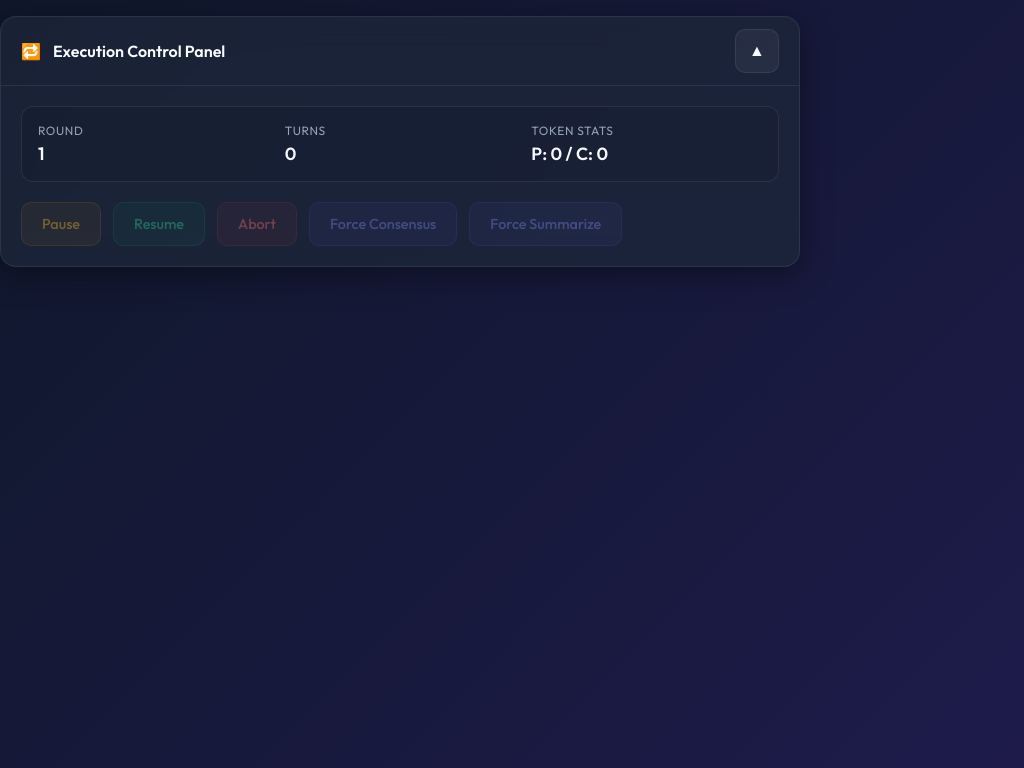
Scenario: LoopControlPanel UI Component › toggles expanded and collapsed state
Check: the element with test id "stat-round" is shown, box [38,123,83,165]
Click the button with test id "toggle-panel-expanded-btn". click: click(757, 51)
box: [735,29,779,73]
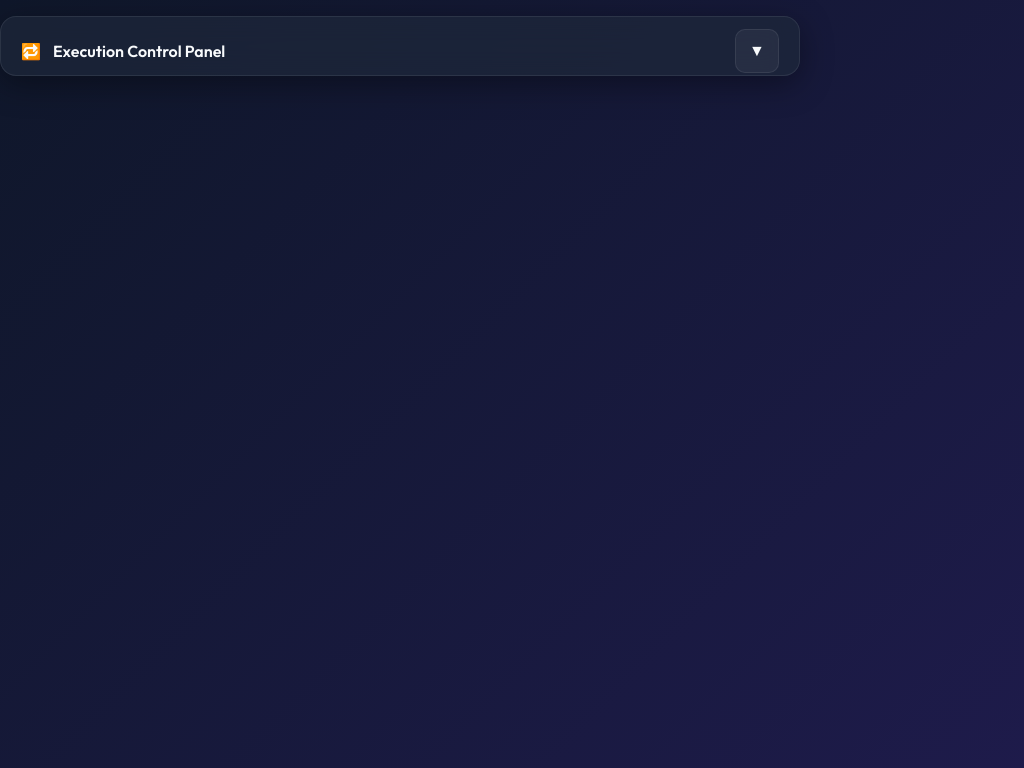
Check: the element with test id "stat-round" is gone
